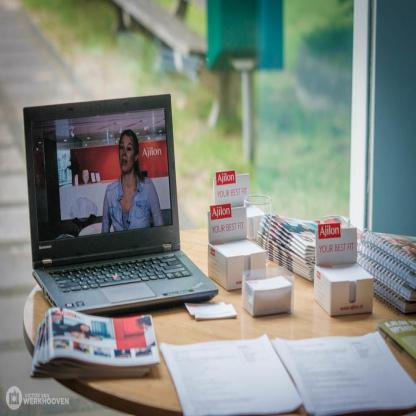board: (23, 94, 219, 314)
